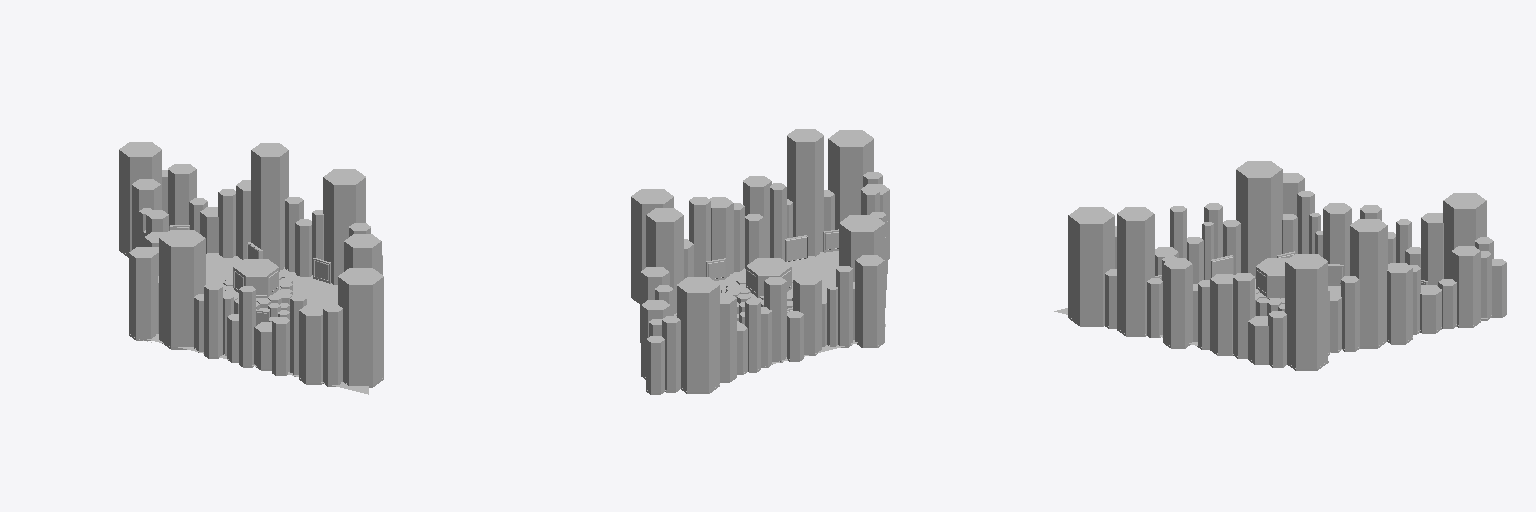
File: room2_caster.obj
The picture shows the model from 3 angles: view 1: azimuth 30°, elevation 25°; view 2: azimuth 150°, elevation 25°; view 3: azimuth 270°, elevation 25°; orthographic projection.
Visible parts, largest first — view 1: Hexagons, Floor; view 2: Hexagons, Floor, Neon; view 3: Hexagons, Neon.
Part boxes in pixels (bbox=[...]): Hexagons: bbox=[119, 142, 383, 385]; Floor: bbox=[147, 254, 368, 394]; Hexagons: bbox=[631, 129, 889, 392]; Floor: bbox=[665, 251, 856, 390]; Neon: bbox=[631, 250, 889, 394]; Hexagons: bbox=[1068, 161, 1506, 368]; Neon: bbox=[1068, 278, 1506, 370].
Size of the model in its own units: 43.02 by 20.54 by 71.4.